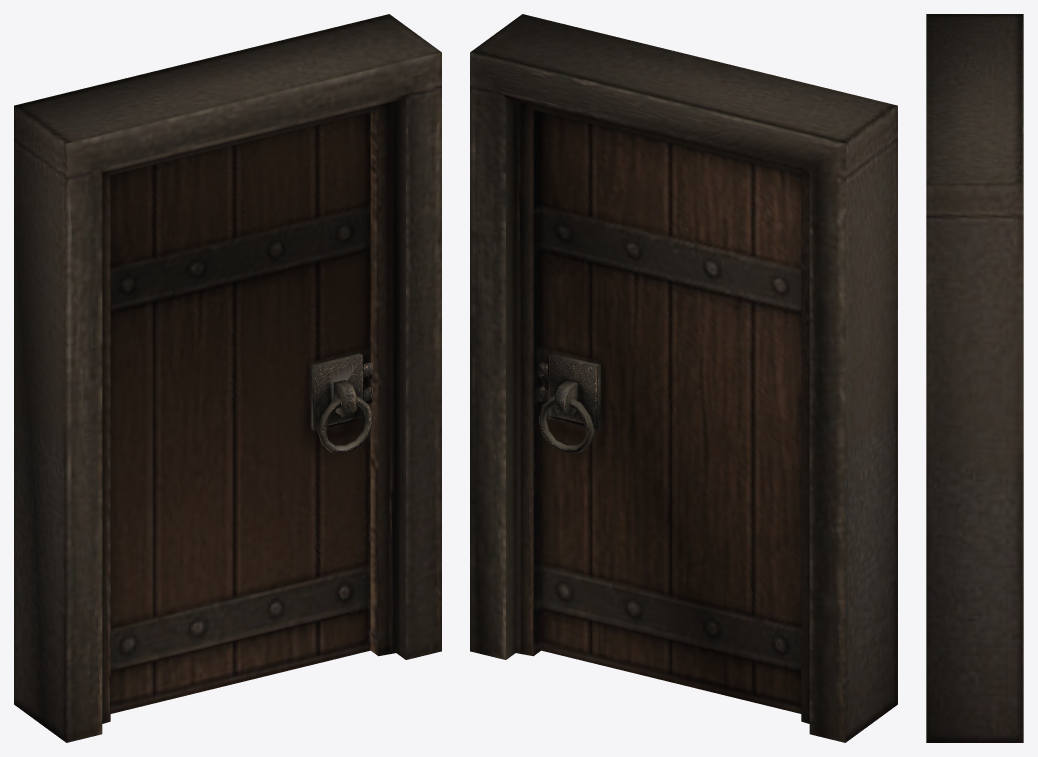
The model's file is door.glb.
3 views of the same model, side by side, from view 1: azimuth 30°, elevation 25°; view 2: azimuth 150°, elevation 25°; view 3: azimuth 270°, elevation 25° (orthographic). The views are drawn at different scales.
Visible parts, largest first — view 1: tripo_node_cddca8a2; view 2: tripo_node_cddca8a2; view 3: tripo_node_cddca8a2.
Part boxes in pixels (box(x1,y1,x2,y2)): tripo_node_cddca8a2: box(14, 14, 441, 742); tripo_node_cddca8a2: box(470, 14, 897, 742); tripo_node_cddca8a2: box(926, 14, 1023, 742).
Bounding box in the file's own units: 1.37 × 2.09 × 0.331.
Materials: 1 (1 with a texture image).
